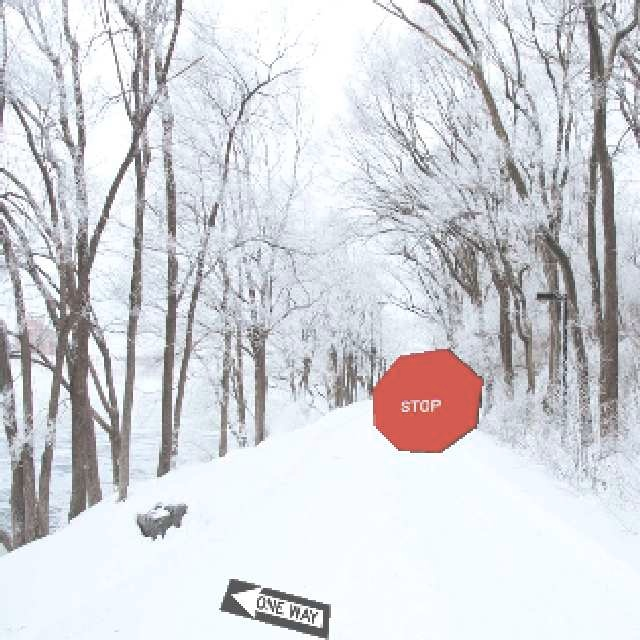ONE_WAY_ left: (217, 576, 329, 638)
STOP: (370, 346, 482, 452)
